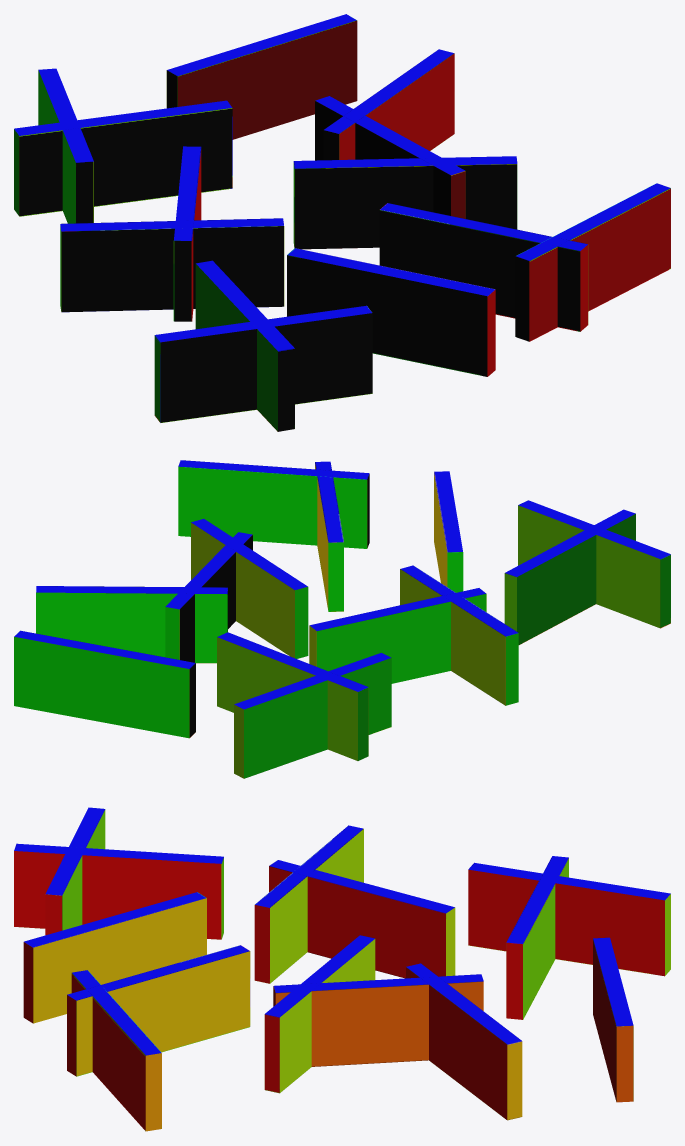
The model's file is walls.glb.
The picture shows the model from 3 angles, top to bottom: view 1: azimuth 30°, elevation 25°; view 2: azimuth 150°, elevation 25°; view 3: azimuth 270°, elevation 25°; orthographic projection. The views are drawn at different scales.
Parts seen in each view (by area): view 1: Walls; view 2: Walls; view 3: Walls.
Part boxes in pixels (x1=…): Walls: x1=14, y1=14, x2=670, y2=431; Walls: x1=14, y1=460, x2=670, y2=778; Walls: x1=14, y1=807, x2=670, y2=1131.
Bounding box in the file's own units: 16.3 × 2.33 × 18.24.
1 material, 1 textured.
